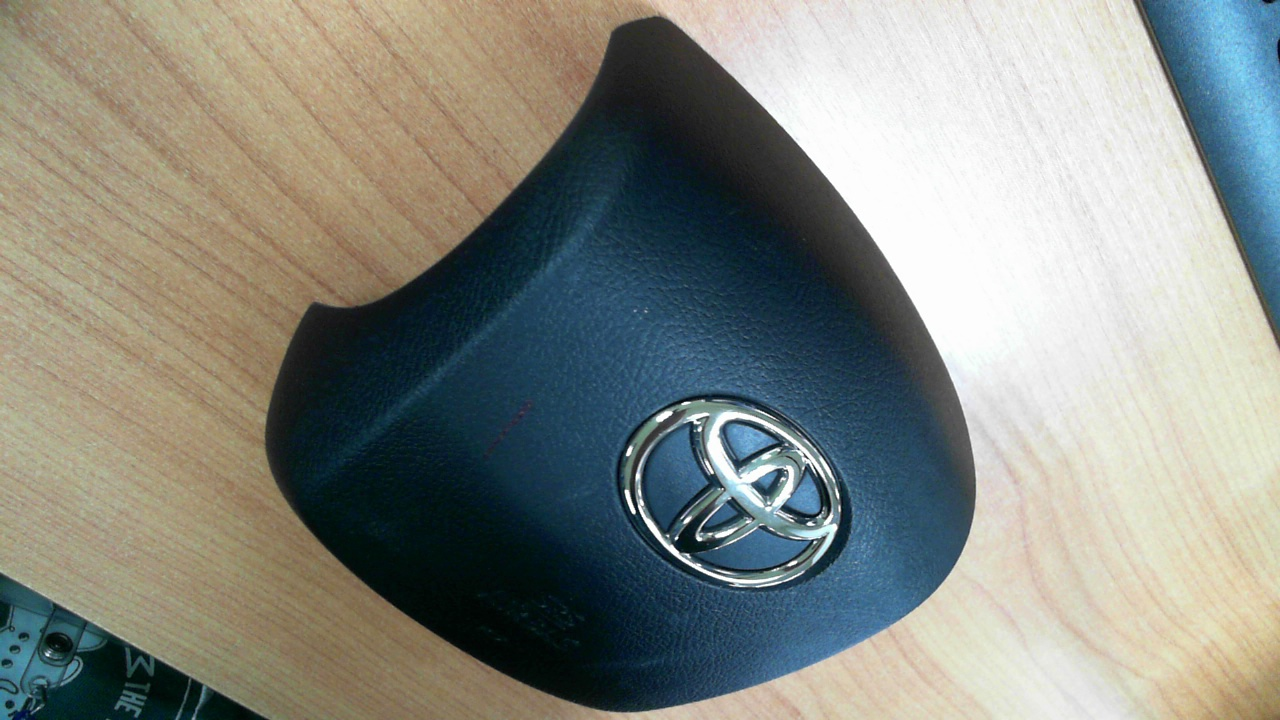Airbag: (262, 13, 978, 715)
Toyota: (623, 399, 842, 588)
